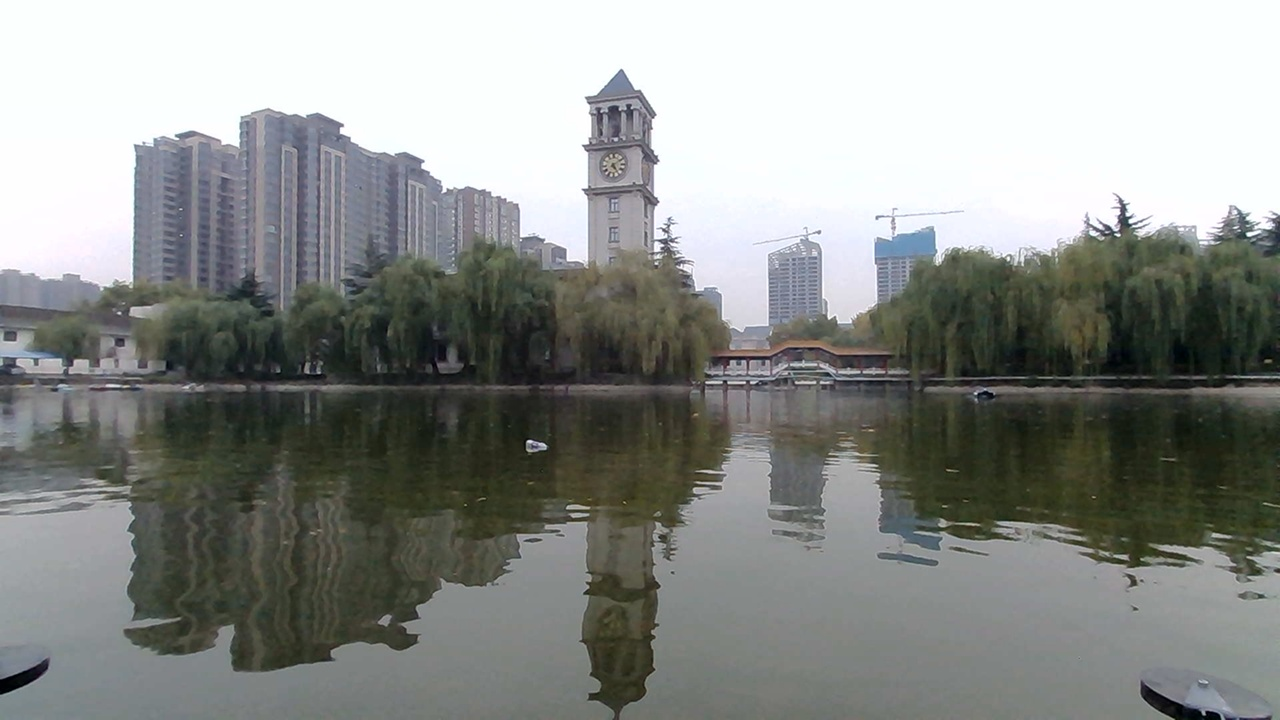bottle: (510, 427, 562, 465)
